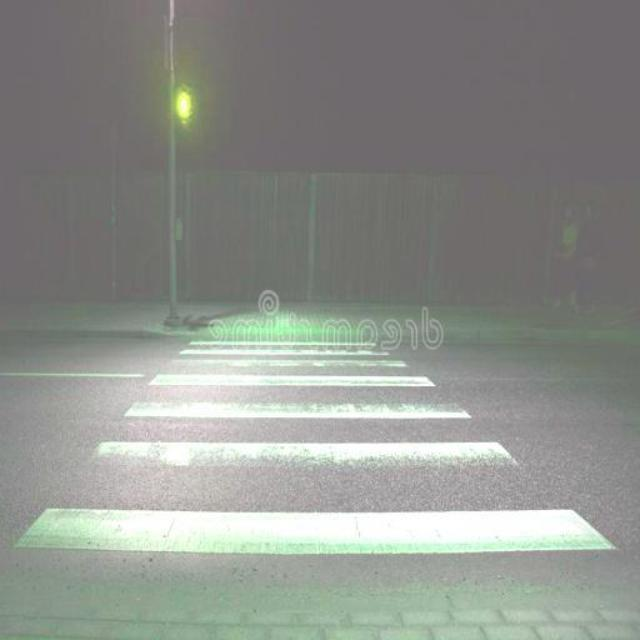sidewalk: (1, 327, 640, 572)
